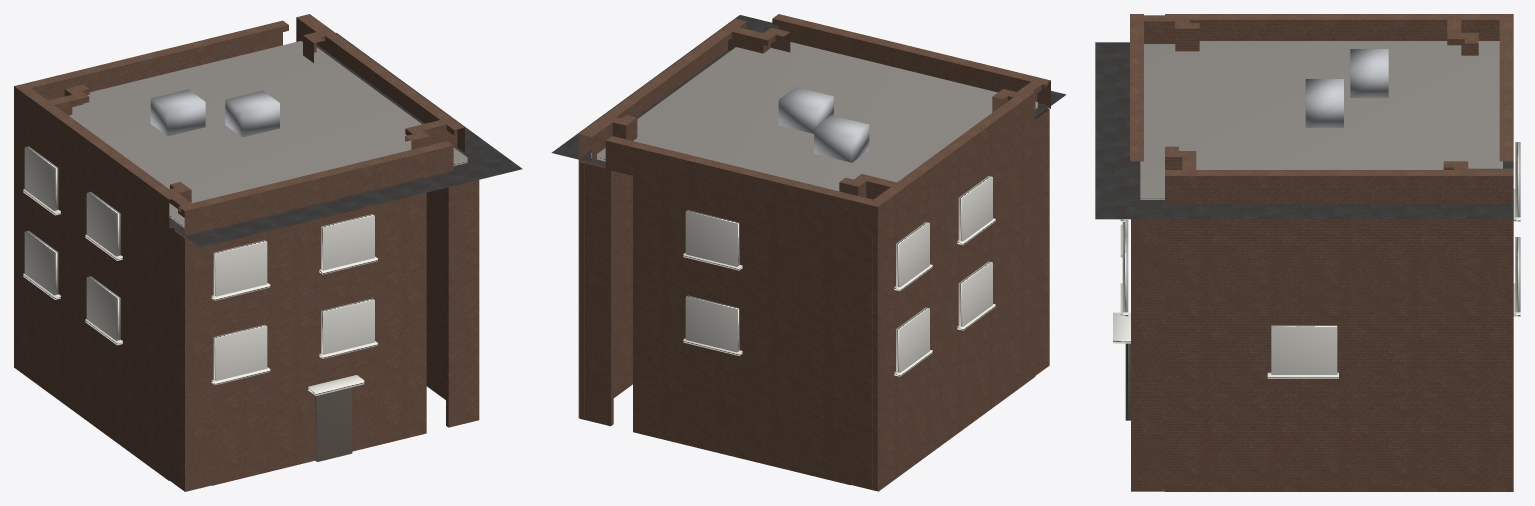
Rendered from b_brick_tan.gltf.
3 renders of one model, left to right at view 1: azimuth 30°, elevation 25°; view 2: azimuth 150°, elevation 25°; view 3: azimuth 270°, elevation 25°, orthographic. The views are drawn at different scales.
Parts seen in each view (by area): view 1: b_brick_tan; view 2: b_brick_tan; view 3: b_brick_tan.
Part boxes in pixels (x1=…): b_brick_tan: x1=14, y1=14, x2=522, y2=491; b_brick_tan: x1=551, y1=14, x2=1066, y2=491; b_brick_tan: x1=1095, y1=14, x2=1520, y2=491.
Bounding box in the file's own units: 12.24 × 10.3 × 12.21.
Materials: 10 (4 with a texture image).
